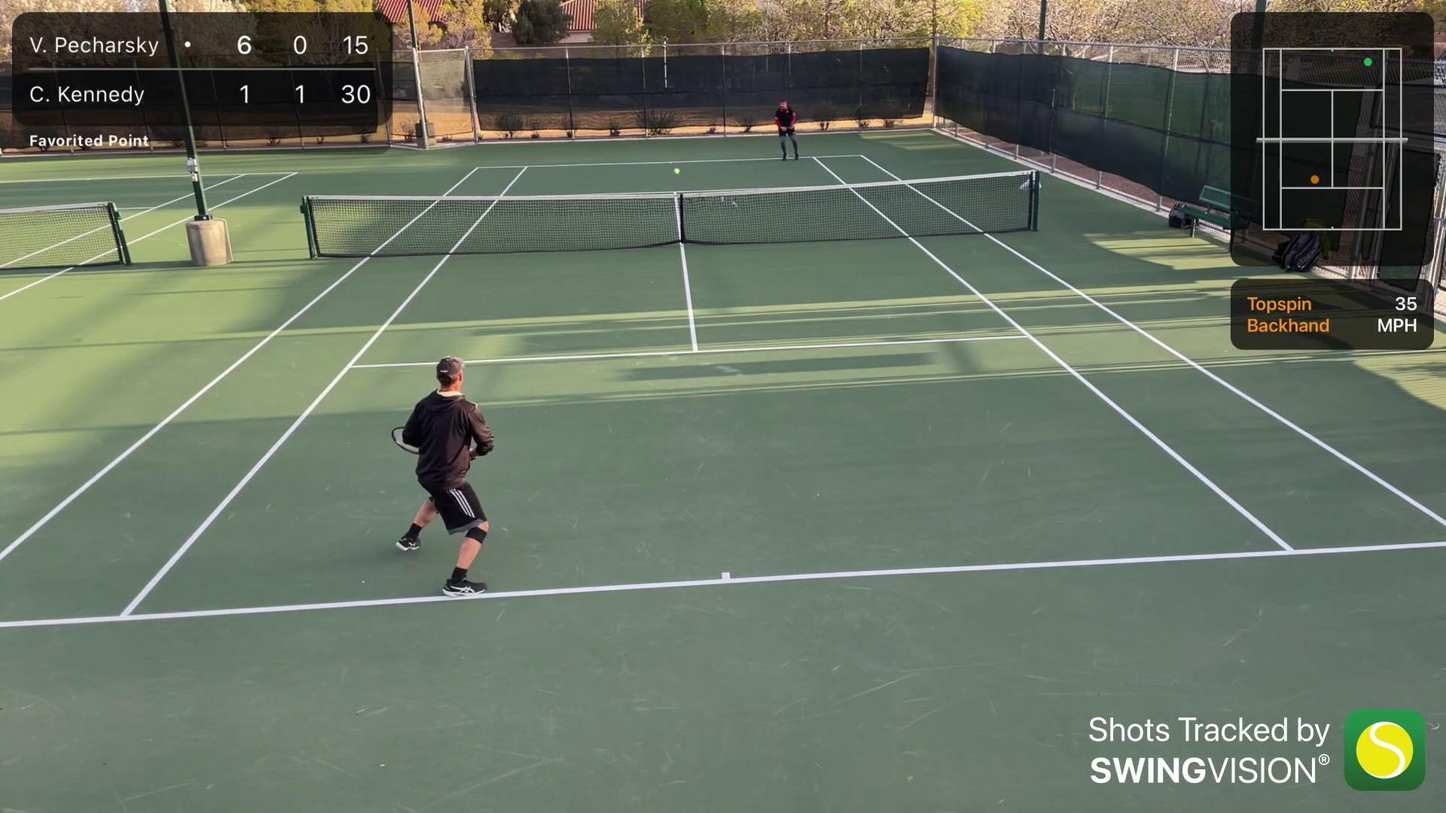ball: (672, 170, 680, 175)
